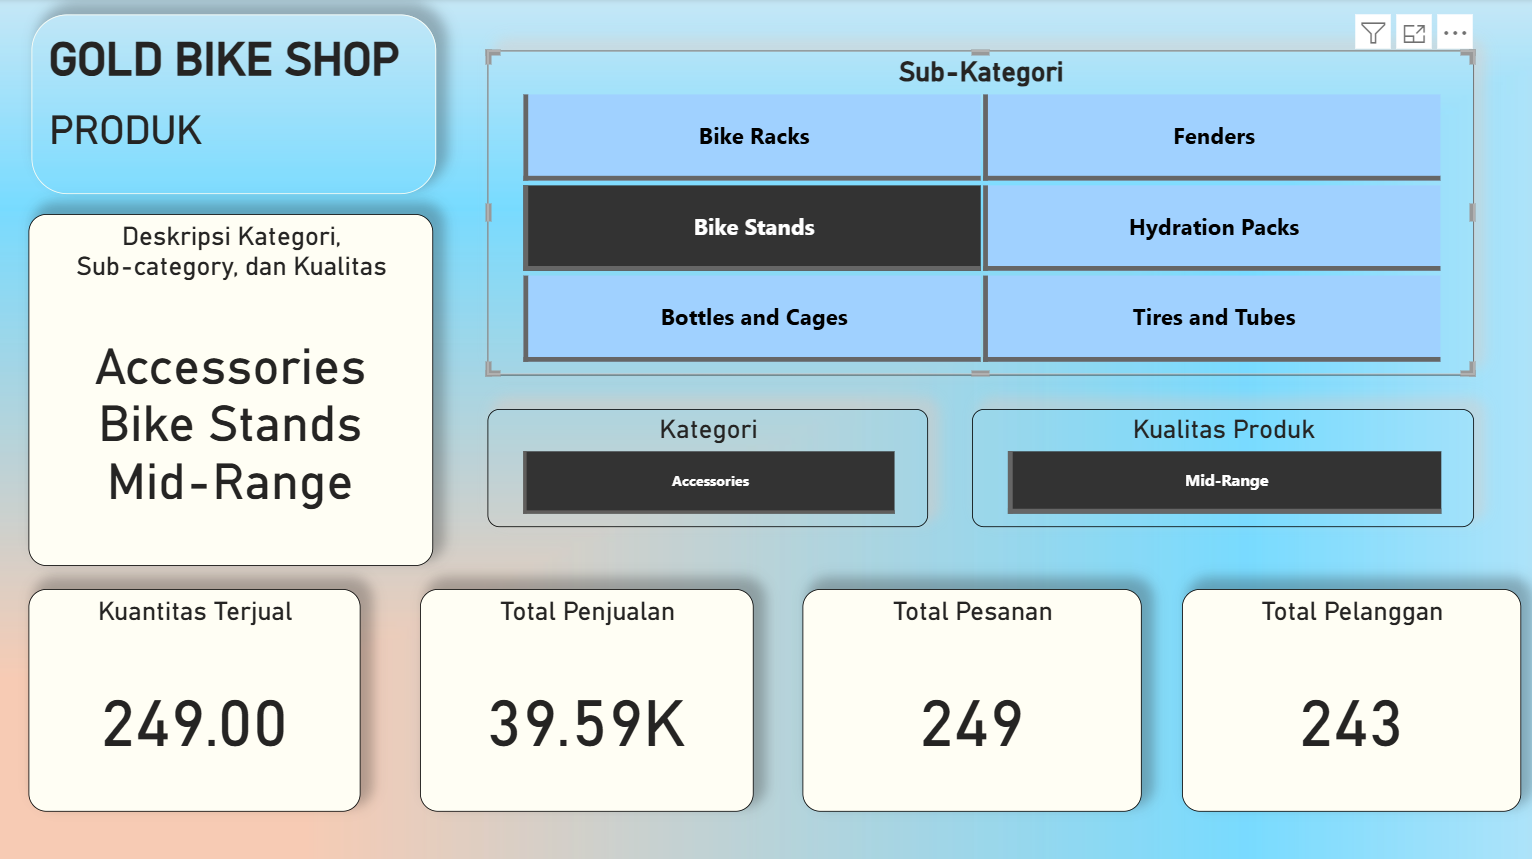

The page's visual inventory and layout, read from the dashboard file:
{"tool":"powerbi","page":{"name":"Produk","canvas":[1280,720],"ordinal":2},"visuals":[{"type":"card","title":"Kuantitas Terjual","fields":{"Values":["Sum(warehouse product_report.total_quantity)"]},"box":[24.2,493.6,277.1,186.2],"z":0},{"type":"card","title":"Total Penjualan","fields":{"Values":["Sum(warehouse product_report.total_sales)"]},"box":[351.3,493.6,278.6,186.2],"z":1000},{"type":"card","title":"Total Pesanan","fields":{"Values":["Sum(warehouse product_report.total_orders)"]},"box":[670.8,493.6,283.2,186.2],"z":2000},{"type":"card","title":"Total Pelanggan","fields":{"Values":["Sum(warehouse product_report.total_customer)"]},"box":[987.3,493.6,283.2,186.2],"z":3000},{"type":"slicer","title":"Sub-Kategori","fields":{"Values":["warehouse product_report.subcategory"]},"box":[407.3,43.9,823.7,271],"z":4000},{"type":"slicer","title":"Kategori","fields":{"Values":["warehouse product_report.category"]},"box":[407.3,343.7,368,98.4],"z":5000},{"type":"card","title":"Deskripsi Kategori, Sub-category, dan Kualitas","fields":{"Values":["warehouse product_report.Measure"]},"box":[24.2,180.2,337.7,293.8],"z":6000},{"type":"slicer","title":"Kualitas Produk","fields":{"Values":["warehouse product_report.product_class"]},"box":[811.6,343.7,419.4,98.4],"z":7000},{"type":"textbox","box":[25.7,13.6,337.7,149.9],"z":8000}]}

Visuals, with their boxes in screenshot pixels (x1, y1, x2, y2), scaled from the page's 1280x720 canvas onto the 1532x859 screenshot:
"Kuantitas Terjual" card: <bbox>29, 589, 361, 811</bbox>
"Total Penjualan" card: <bbox>420, 589, 754, 811</bbox>
"Total Pesanan" card: <bbox>803, 589, 1142, 811</bbox>
"Total Pelanggan" card: <bbox>1182, 589, 1521, 811</bbox>
"Sub-Kategori" slicer: <bbox>487, 52, 1473, 376</bbox>
"Kategori" slicer: <bbox>487, 410, 928, 527</bbox>
"Deskripsi Kategori, Sub-category, dan Kualitas" card: <bbox>29, 215, 433, 566</bbox>
"Kualitas Produk" slicer: <bbox>971, 410, 1473, 527</bbox>
textbox: <bbox>31, 16, 435, 195</bbox>
